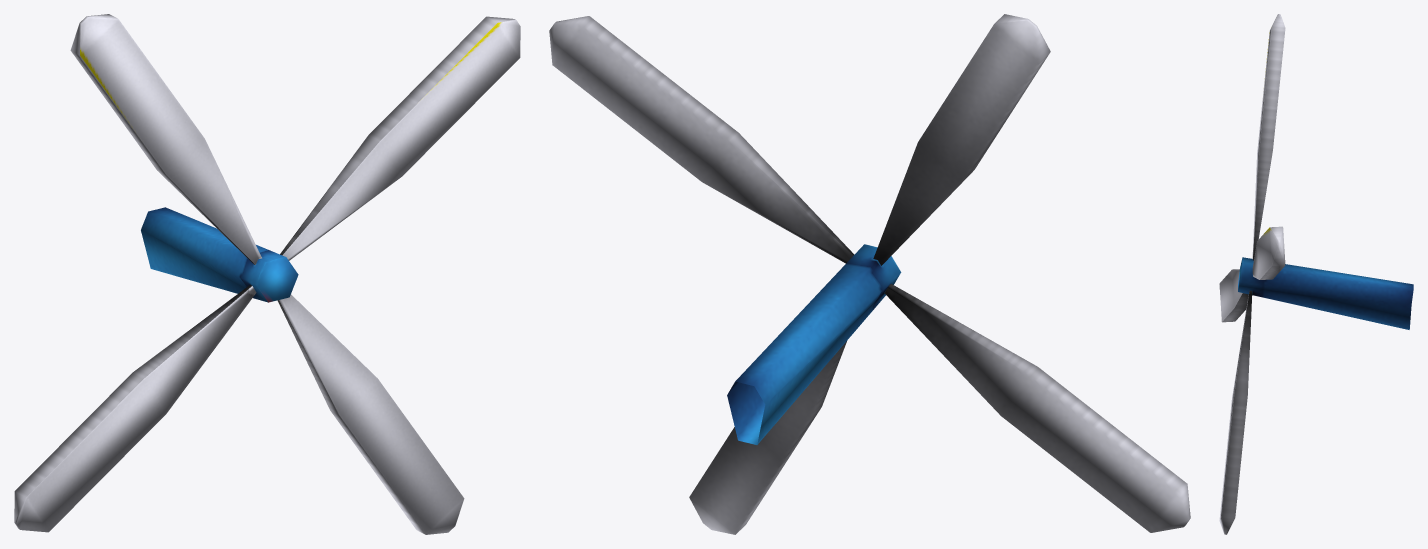
File: plane5_blades2.obj
The picture shows the model from 3 angles, left to right: view 1: azimuth 30°, elevation 25°; view 2: azimuth 150°, elevation 25°; view 3: azimuth 270°, elevation 25°; orthographic projection. The views are drawn at different scales.
Visible parts, largest first — view 1: Catoon_B26_fan; view 2: Catoon_B26_fan; view 3: Catoon_B26_fan.
Part boxes in pixels (x1,y1,x2,y2): Catoon_B26_fan: (14, 14, 520, 534); Catoon_B26_fan: (549, 14, 1190, 534); Catoon_B26_fan: (1219, 14, 1413, 534).
Size of the model in its own units: 16.3 by 16.3 by 7.03.
Materials: 1 (1 with a texture image).
